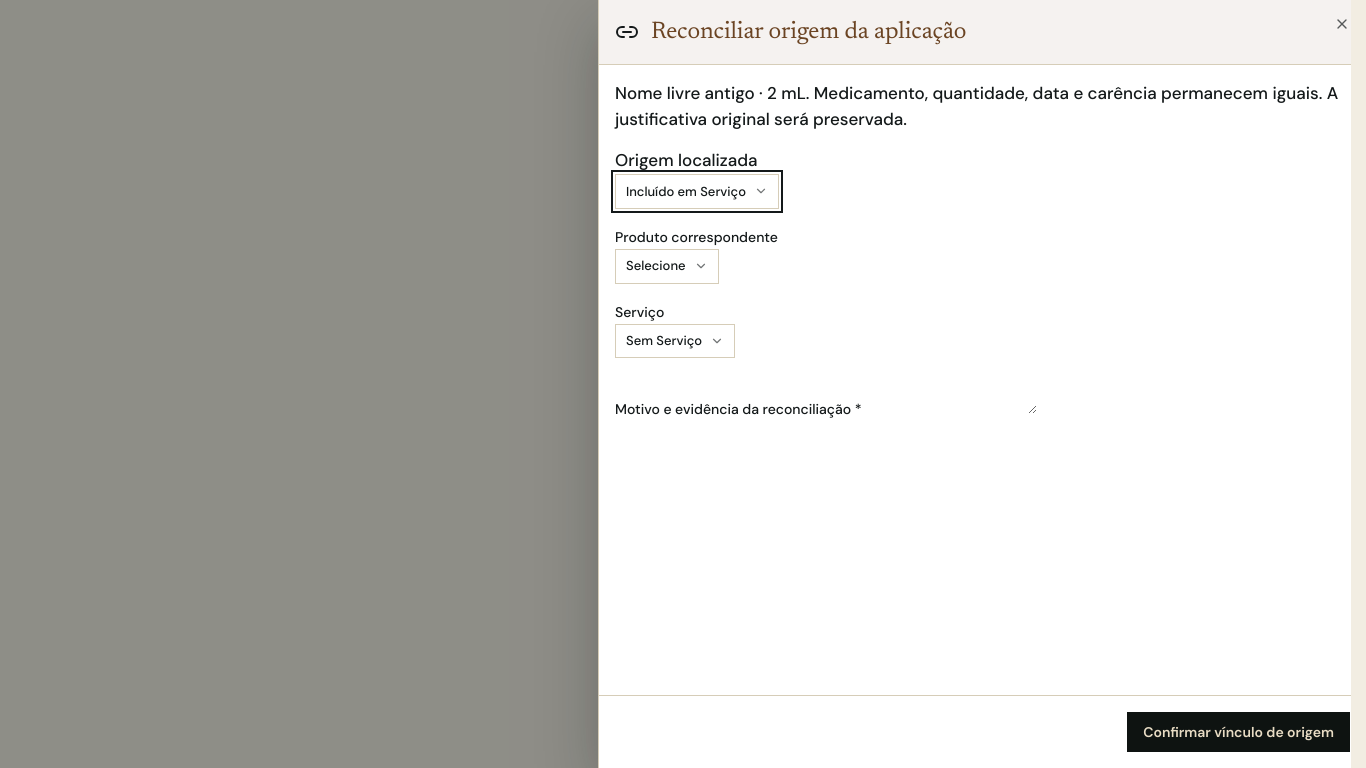
Scenario: não oferece recarga de opções por uma falha de validação local
The width and height of the screenshot is (1366, 768).
Click the dropdown named "Origem localizada".
click(697, 191)  # box [615,174,779,209]
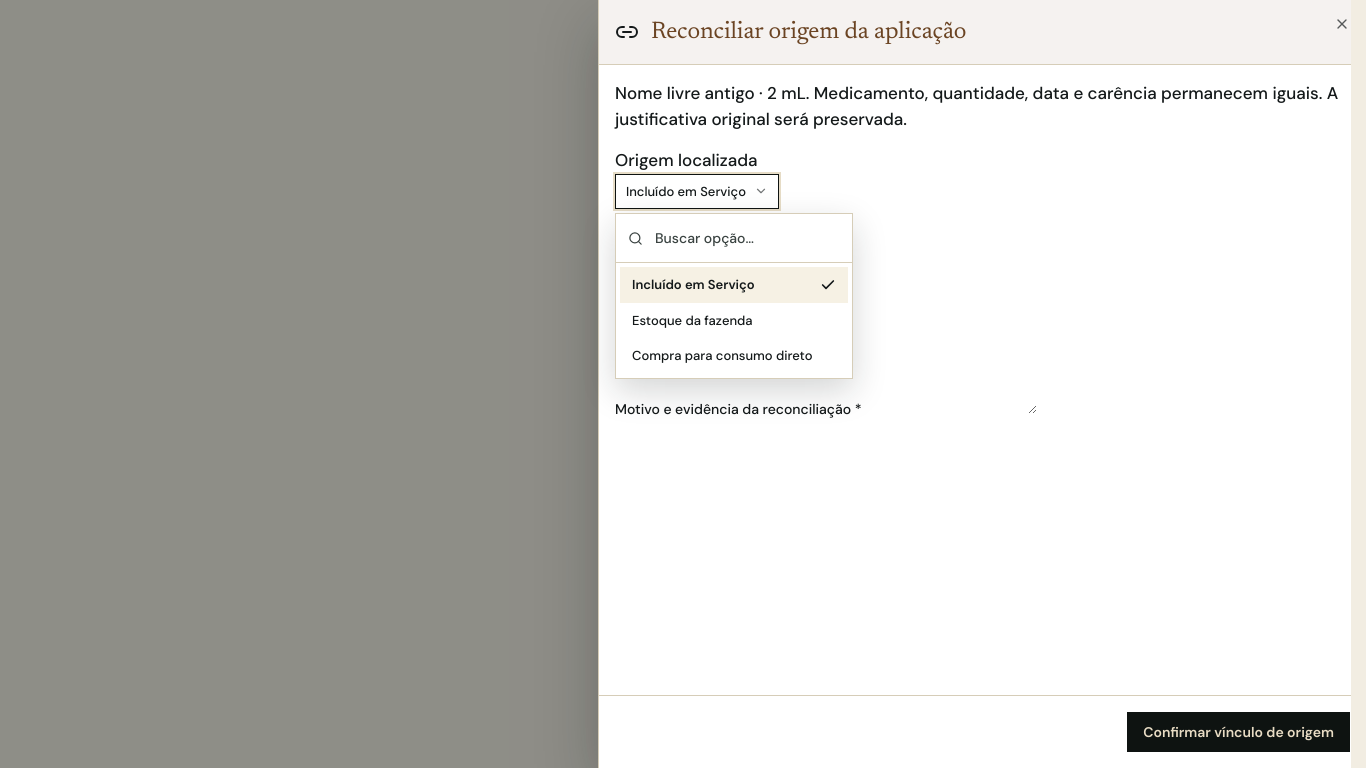
Click the option "Estoque da fazenda".
click(692, 320)  # box [632,312,753,328]
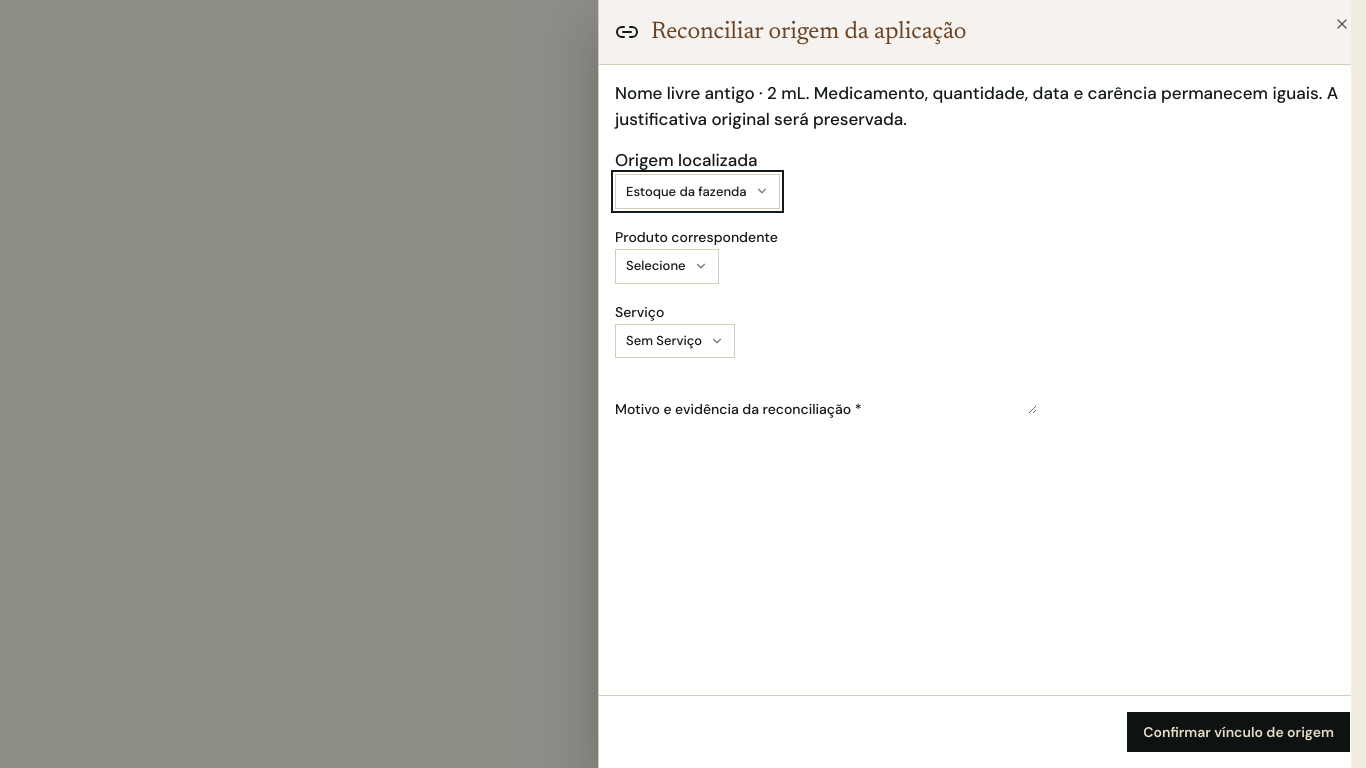
Click the dropdown named "Produto correspondente".
click(667, 266)  # box [615,249,718,284]
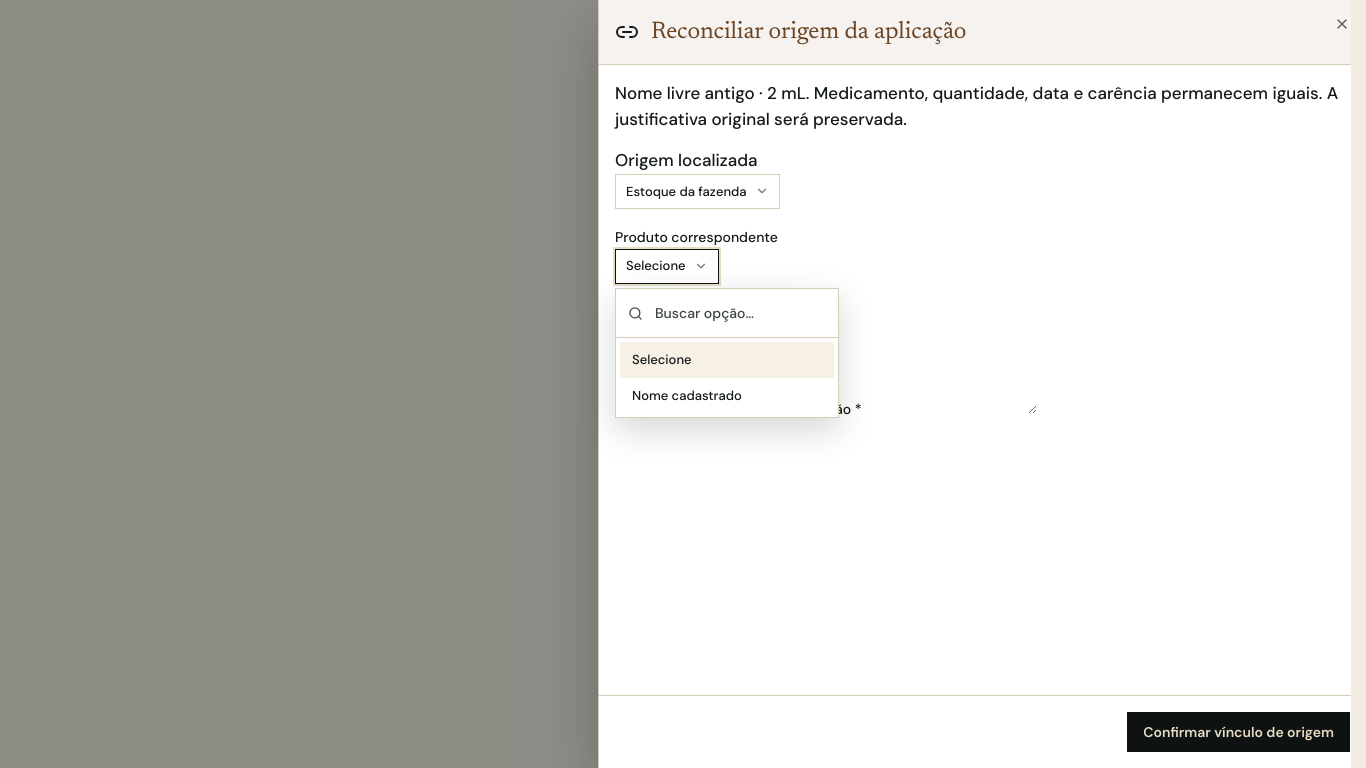
Click the option "Nome cadastrado".
click(687, 395)  # box [632,386,742,404]
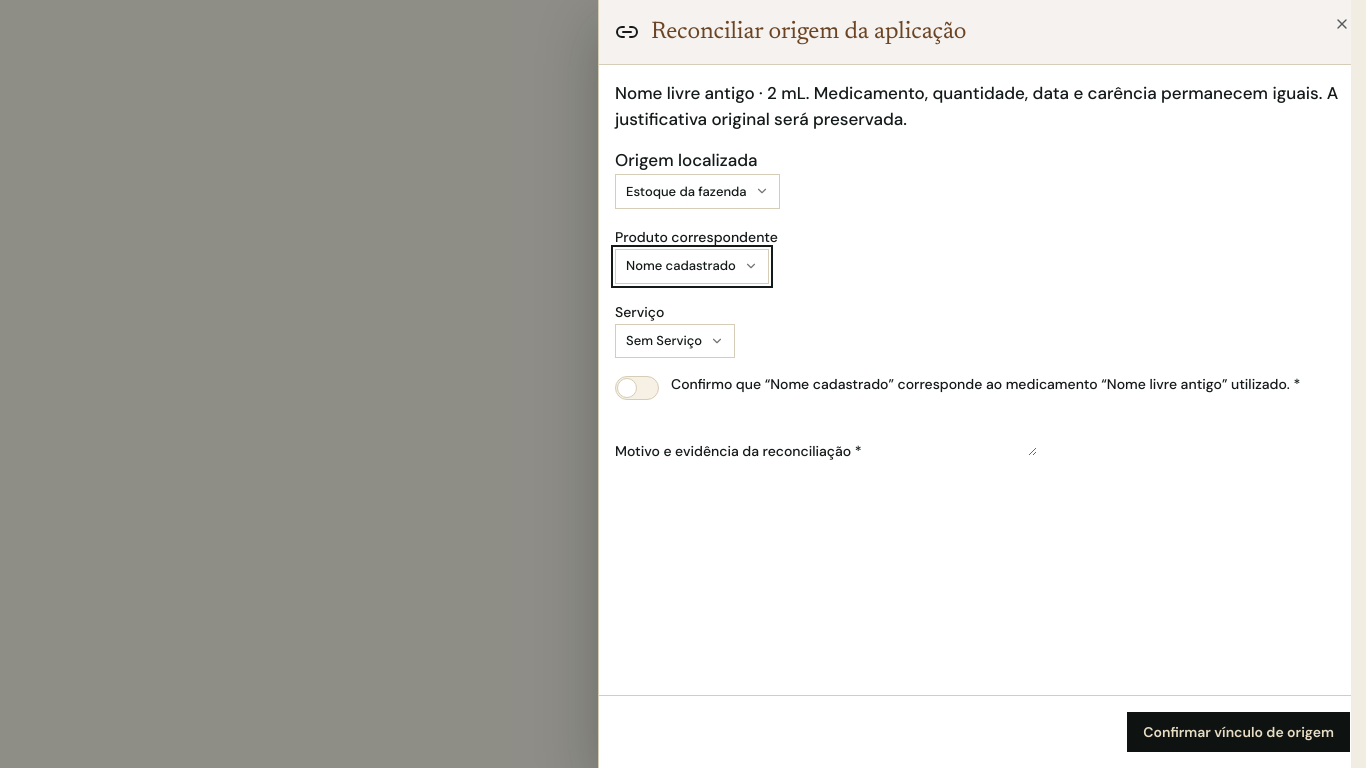
Type "Nota e bula conferidas" into the text box labelled "Motivo e evidência da reconciliação".
click(949, 436); type("Nota e bula conferidas")  # box [862,416,1037,456]
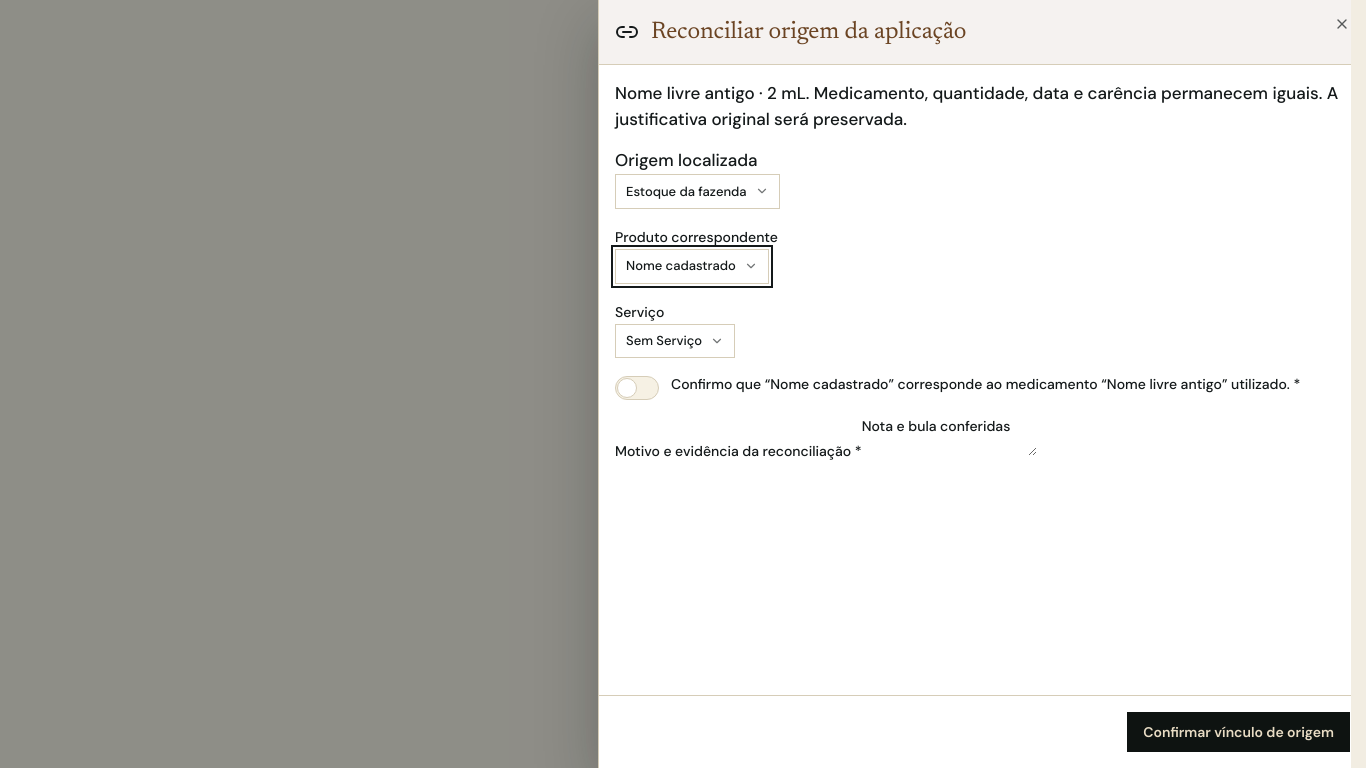
Submit the form with id "reconciliar-origem", box [615,81,1350,463]
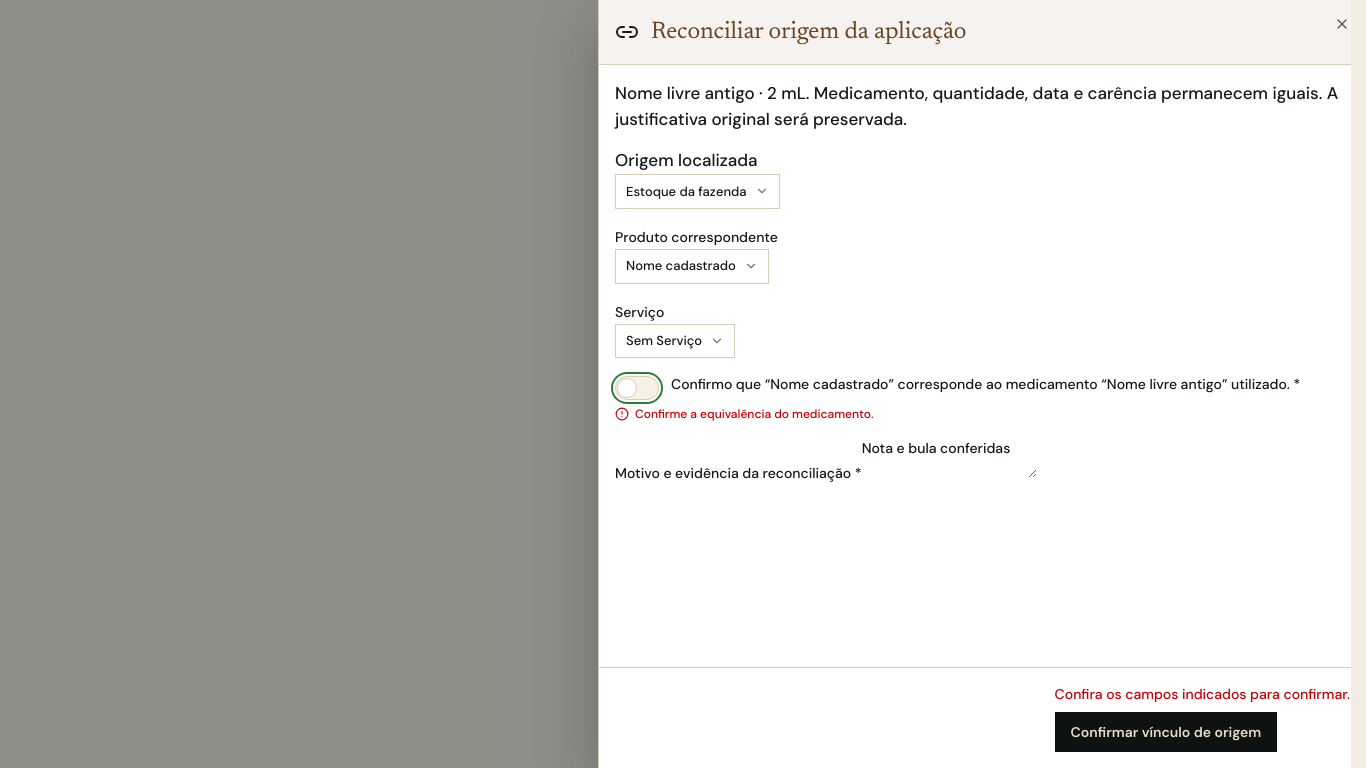
expect the message "Confirme a equivalência do medicamento." is shown: met, box [615,406,874,422]
